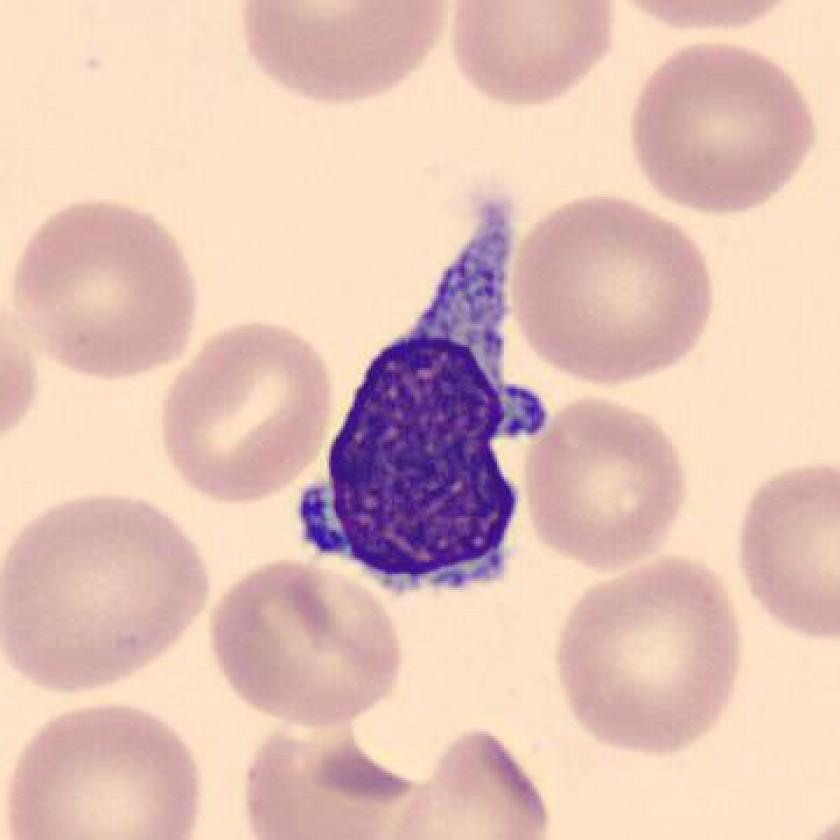lymphocyte: (286, 170, 566, 612)
